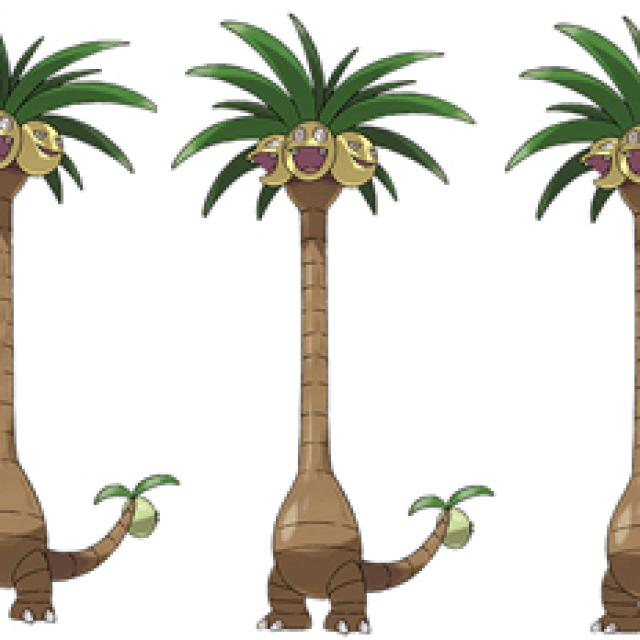Exeggutor: (241, 79, 398, 640), (0, 43, 73, 628), (570, 77, 640, 637)
